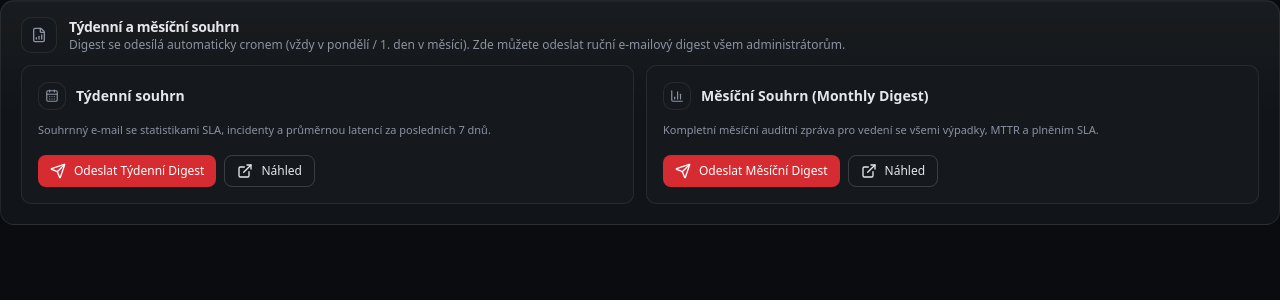
Souhrn na stránce Reporty › neúspěch řekne slovy serveru, ne jako úspěch
Click the button "Odeslat Týdenní Digest": (127, 170) [38,154,216,186]
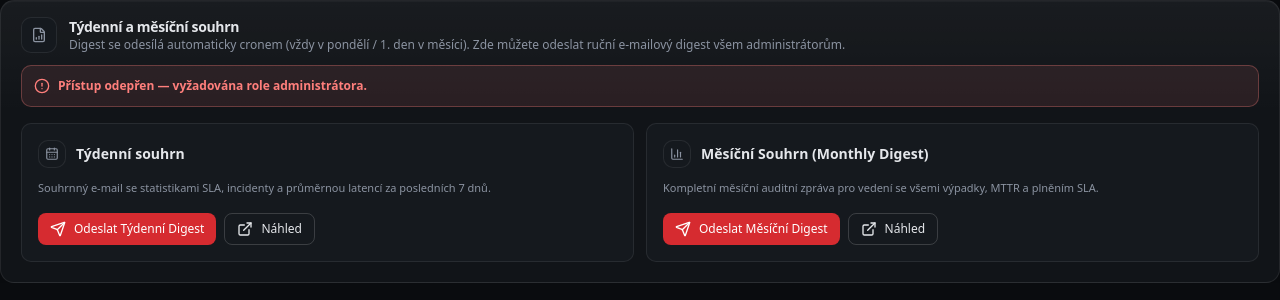
Expected: the message reads "Přístup odepřen — vyžadována role administrátora.", [58,77,367,94]
